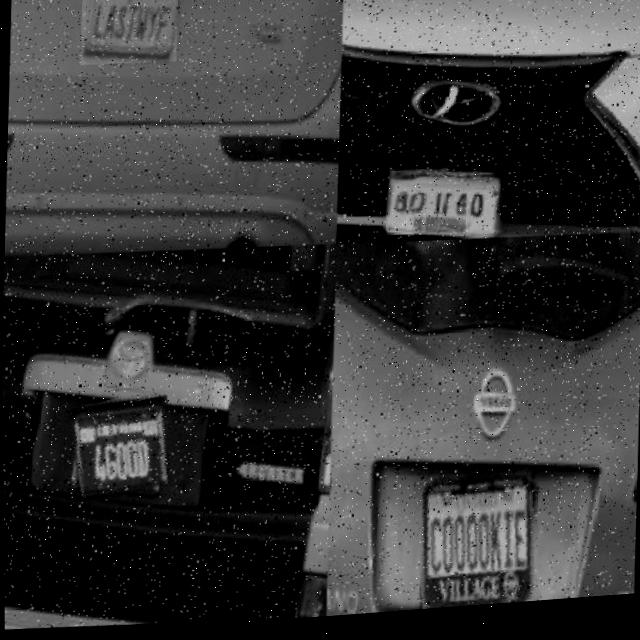LicensePlate: (422, 482, 531, 616), (66, 388, 181, 506), (383, 177, 503, 244), (79, 0, 178, 68)
